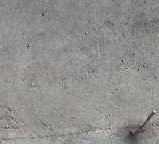Exposed reinforcement: (138, 108, 157, 130)
